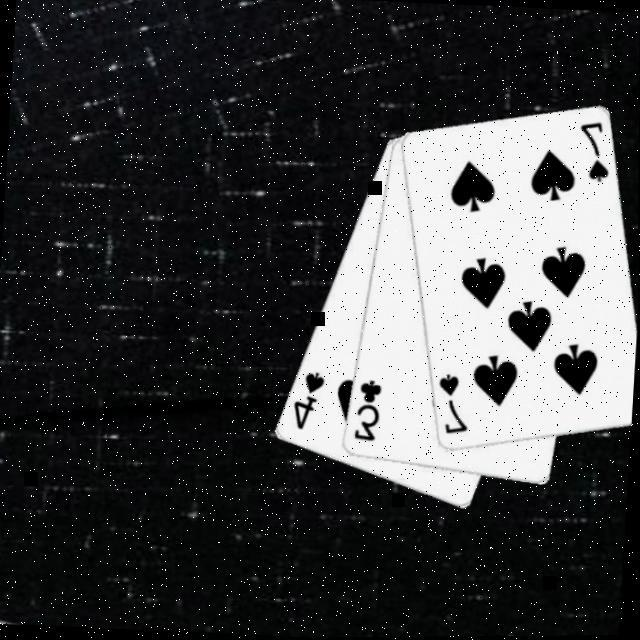3C: (350, 375, 384, 444)
4S: (288, 366, 326, 432)
7S: (432, 369, 472, 438), (574, 117, 614, 185)
